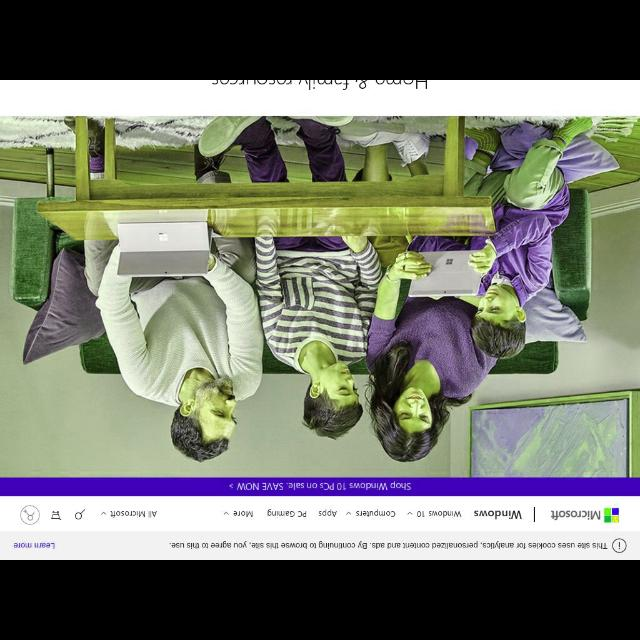button: (20, 504, 40, 524)
icon: (612, 538, 626, 554), (24, 508, 36, 520), (76, 508, 86, 522), (50, 511, 62, 522), (344, 510, 352, 516), (101, 510, 107, 516), (406, 511, 414, 515), (224, 512, 230, 516)
image: (1, 116, 639, 478), (550, 505, 620, 523)
spinner: (100, 508, 158, 518), (406, 508, 462, 518), (345, 509, 395, 519), (223, 509, 254, 519)
text: (168, 541, 606, 549), (205, 81, 428, 91), (235, 481, 412, 492), (473, 509, 521, 519), (266, 508, 308, 518), (416, 509, 462, 518), (110, 510, 158, 518), (11, 542, 57, 550), (356, 509, 396, 517), (318, 508, 337, 518), (232, 510, 254, 518)
toolbar: (1, 496, 639, 530)
